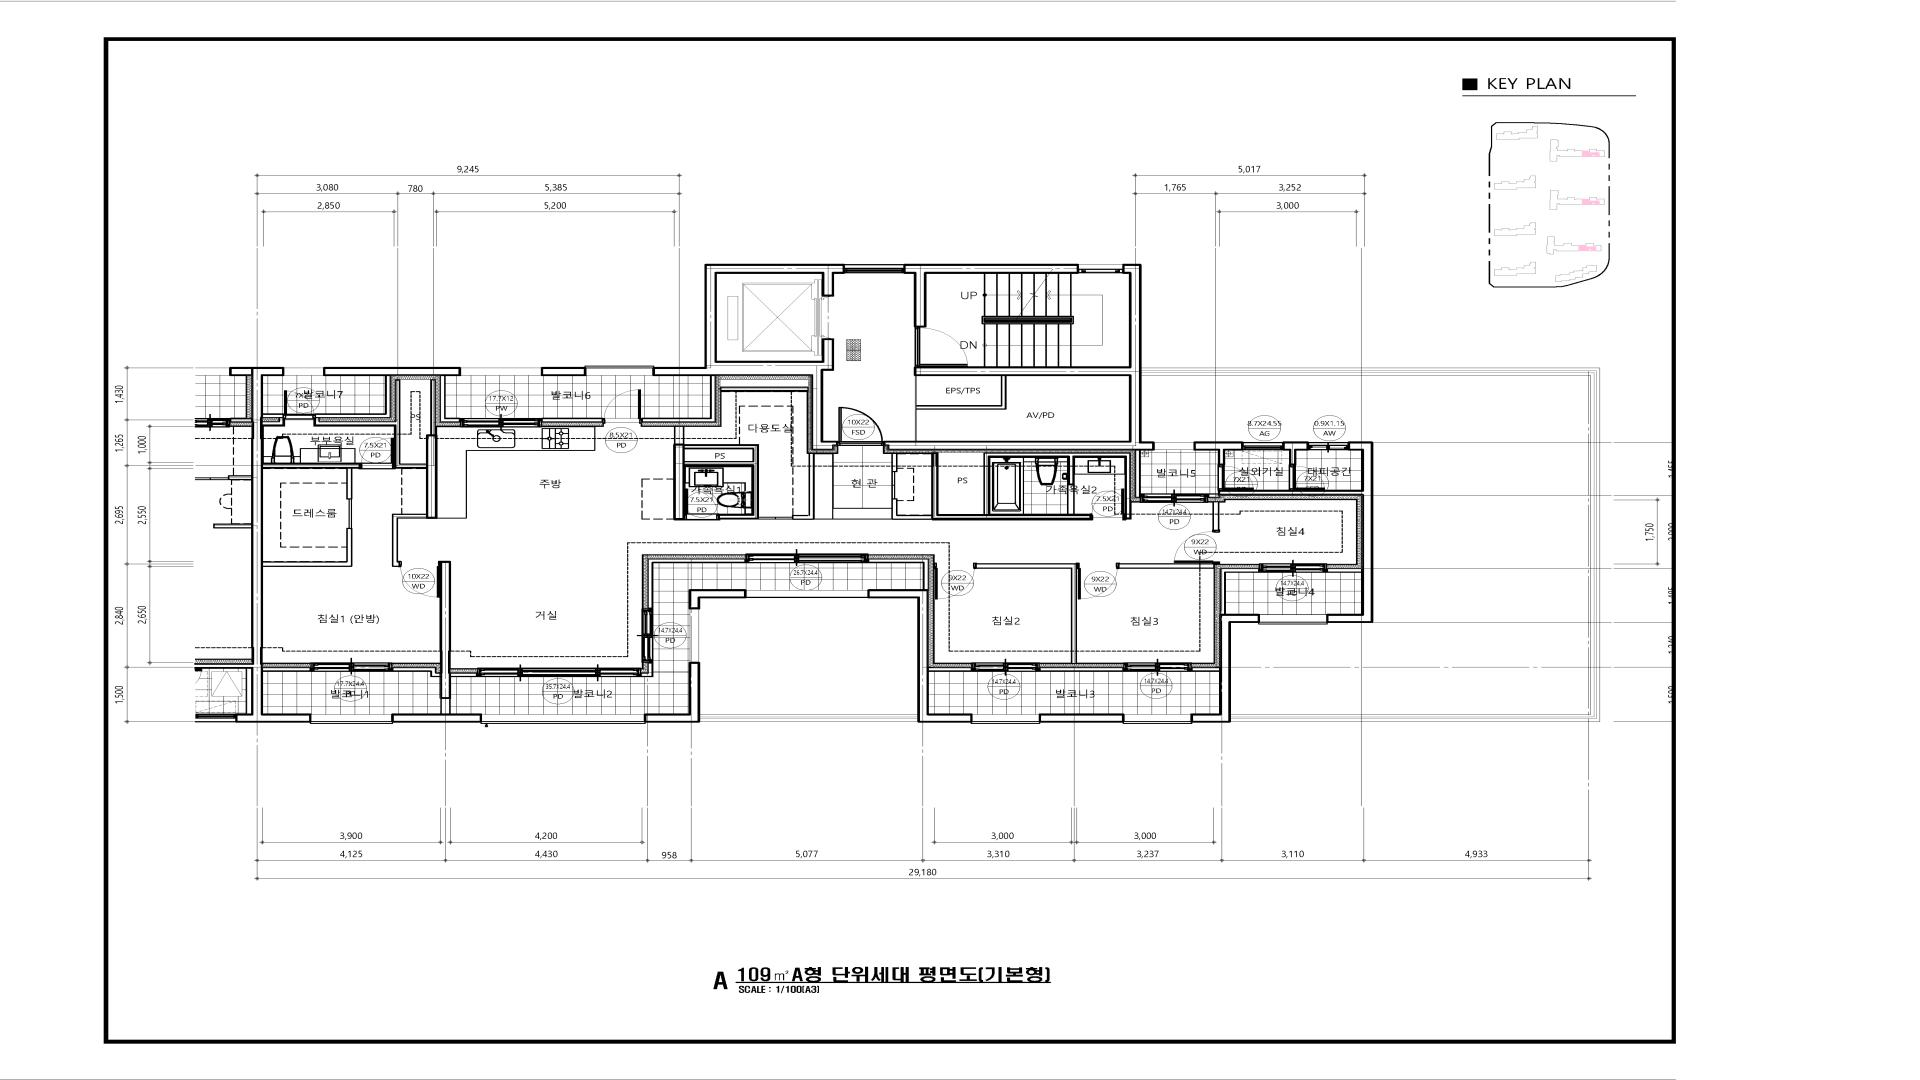door: (914, 327, 968, 367), (839, 407, 884, 446), (1172, 530, 1221, 563), (1077, 563, 1120, 600), (935, 563, 977, 600), (398, 560, 439, 597), (603, 389, 642, 423), (1091, 488, 1125, 521), (686, 489, 720, 521), (359, 438, 393, 469), (1217, 464, 1254, 489), (1288, 464, 1325, 489), (284, 390, 315, 419), (345, 500, 352, 527), (891, 472, 895, 498), (760, 517, 793, 520)
wall: (884, 264, 1154, 451), (653, 264, 844, 451), (1218, 442, 1374, 622), (235, 367, 311, 723), (315, 376, 438, 567), (891, 452, 1131, 521), (868, 589, 972, 723), (392, 560, 477, 713), (905, 264, 1079, 327), (977, 563, 1077, 665), (673, 426, 760, 521), (1191, 613, 1259, 723), (647, 558, 745, 608), (264, 463, 359, 500), (642, 376, 716, 423), (264, 527, 352, 567), (645, 662, 700, 723), (869, 558, 930, 589), (1220, 568, 1258, 613), (793, 452, 815, 520), (323, 367, 460, 376), (688, 589, 746, 609), (1195, 442, 1242, 464), (439, 376, 460, 423), (392, 713, 481, 723), (1039, 713, 1124, 723), (1283, 442, 1308, 464), (1039, 666, 1124, 673), (1120, 563, 1215, 568), (720, 386, 808, 392), (541, 367, 585, 376), (541, 418, 603, 423), (1134, 451, 1141, 498), (264, 413, 284, 427), (930, 666, 972, 673), (264, 667, 310, 673), (1212, 501, 1220, 530), (641, 662, 654, 678), (1192, 667, 1218, 673), (1327, 568, 1361, 572), (891, 452, 898, 472)
window: (477, 667, 641, 678), (481, 713, 645, 724), (745, 554, 869, 563), (746, 589, 868, 599), (310, 662, 392, 673), (311, 713, 392, 724), (460, 418, 541, 427), (460, 367, 541, 376), (1258, 563, 1327, 574), (641, 608, 654, 662), (1259, 615, 1327, 625), (1124, 662, 1191, 673), (972, 662, 1039, 673), (1124, 713, 1191, 724), (972, 713, 1039, 724), (585, 365, 653, 376), (844, 264, 905, 274), (688, 609, 700, 662), (1141, 493, 1208, 502), (1079, 264, 1122, 274), (1154, 442, 1195, 451), (1242, 442, 1283, 451), (1308, 442, 1348, 451), (284, 367, 323, 376)
